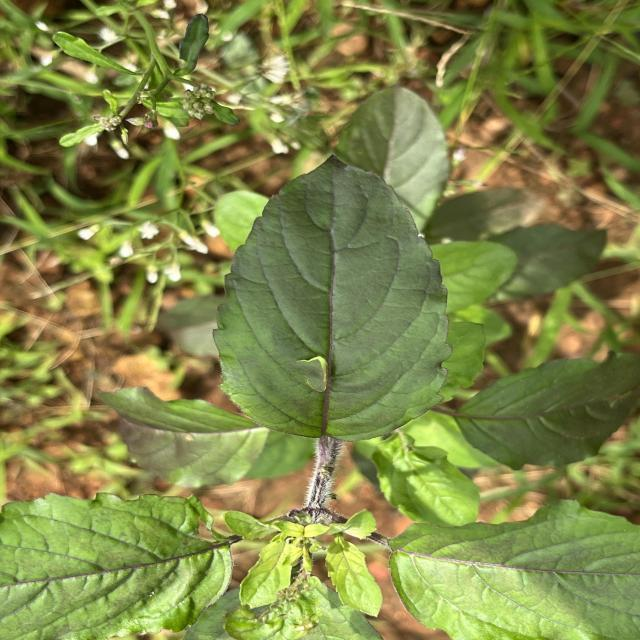Ocimum tenuiflorum: (211, 151, 454, 444)
